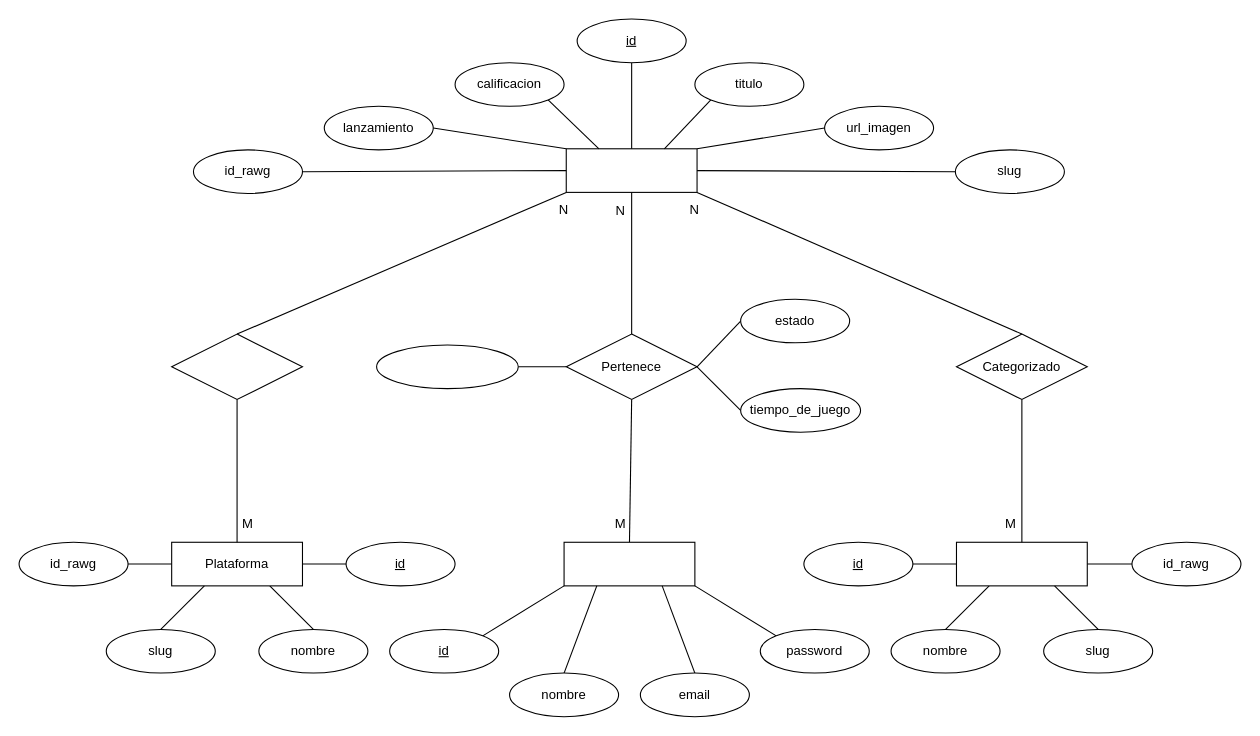
This 1260x736 diagram has some shape labels left out. The shapes that lost their labels are listed below. From the top down, each one's centre as x and y in pixels, then its label:
point (631, 170): Juego
point (236, 366): Compatible
point (447, 366): calificacion_personal
point (629, 563): User
point (1021, 563): Genero
